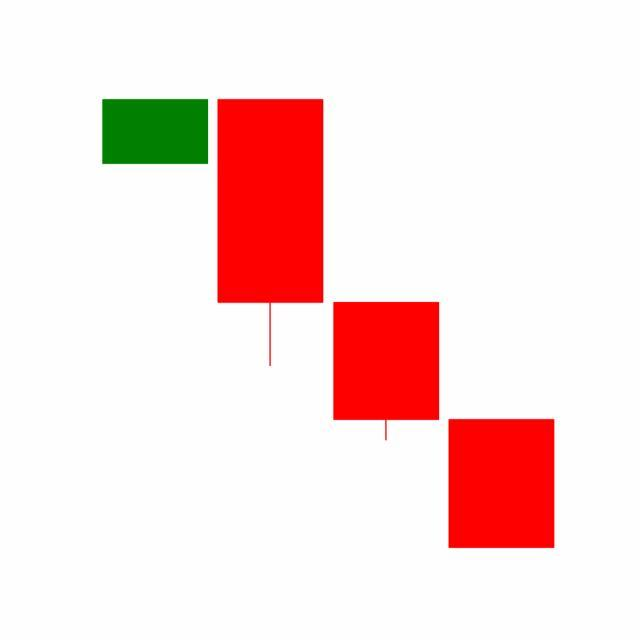Marubozu: (444, 418, 560, 550)
